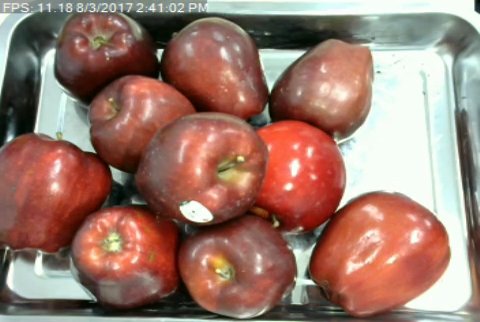Apple: (306, 185, 455, 322), (132, 108, 263, 227), (0, 130, 112, 257), (175, 210, 301, 322), (160, 13, 271, 123), (70, 201, 183, 307), (266, 36, 377, 143), (84, 70, 196, 175), (253, 116, 347, 234), (50, 5, 160, 105)
